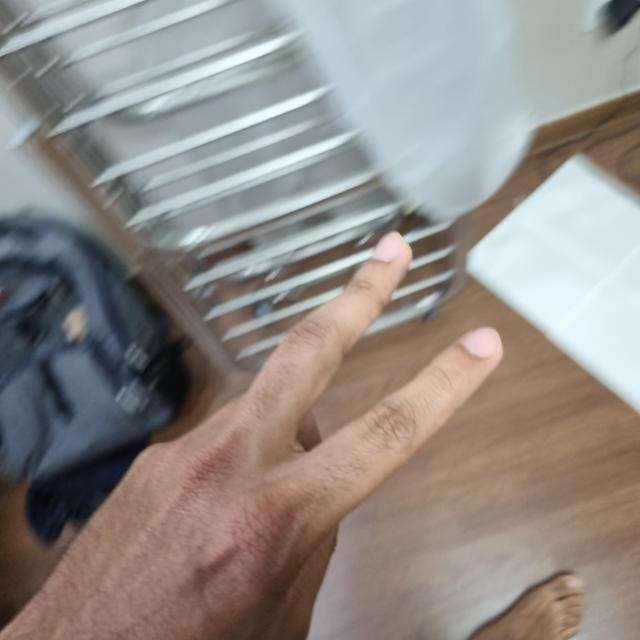Scissors: (5, 235, 499, 639)
